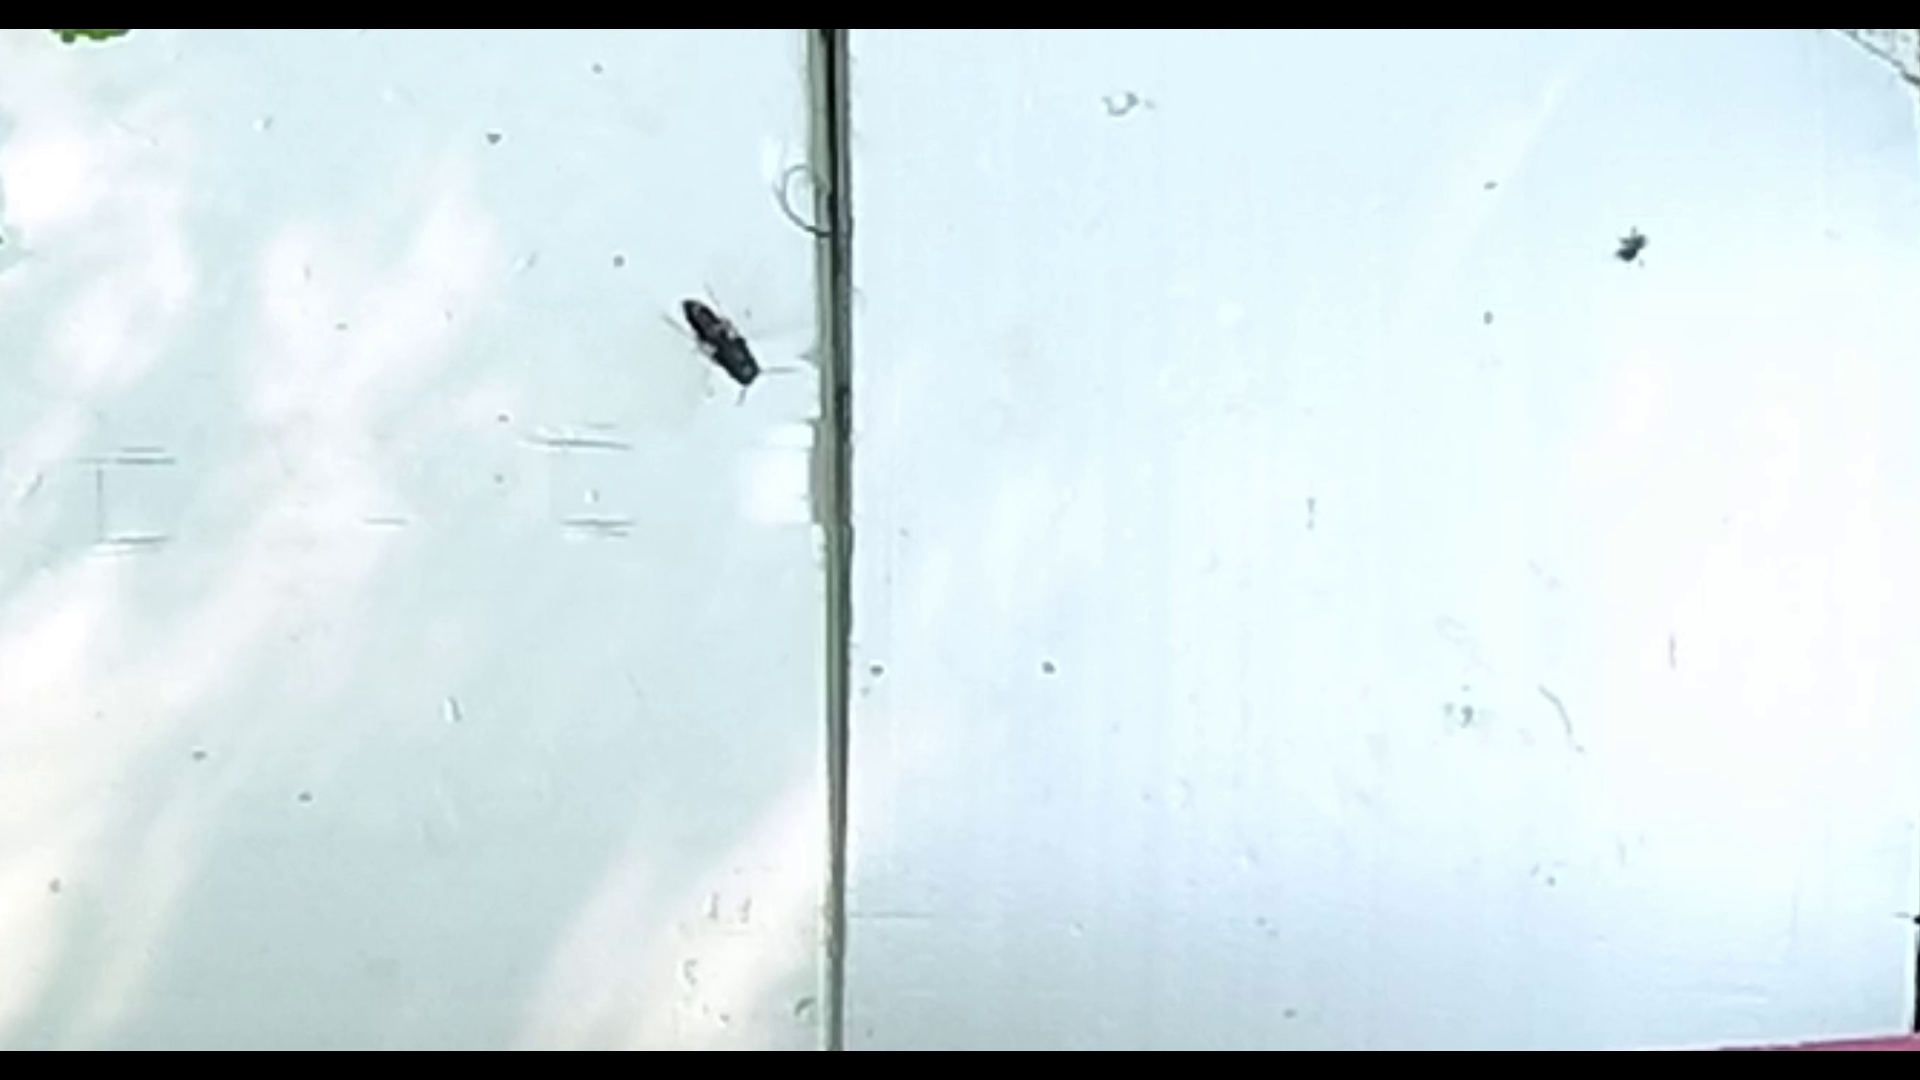Asian_hornets: (646, 258, 796, 422)
